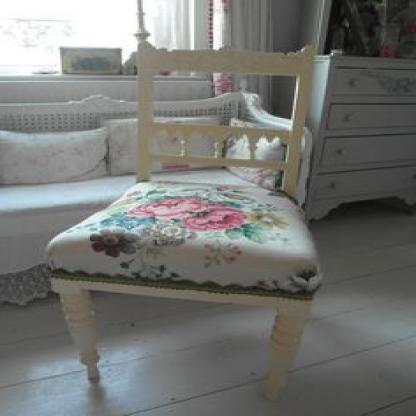chair: (43, 34, 327, 400)
sofa: (0, 74, 306, 284)
